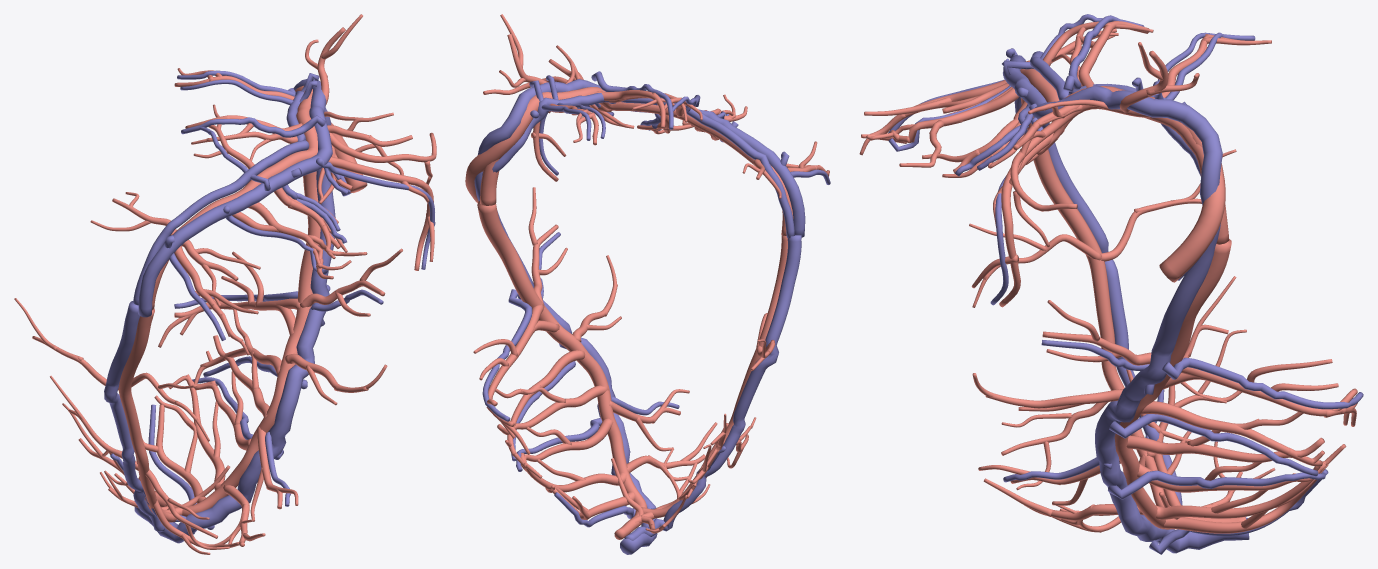
File: vessels_41.glb
3 renders of one model, left to right at view 1: azimuth 30°, elevation 25°; view 2: azimuth 150°, elevation 25°; view 3: azimuth 270°, elevation 25°, orthographic. The views are drawn at different scales.
Parts seen in each view (by area): view 1: Renderer Node; view 2: Renderer Node; view 3: Renderer Node.
Boxes of the visible parts, x1,y1,x2,y2 form: Renderer Node: [14, 14, 436, 554]; Renderer Node: [465, 14, 830, 554]; Renderer Node: [859, 14, 1363, 554].
Size of the model in its own units: 88.48 by 119 by 88.84.
